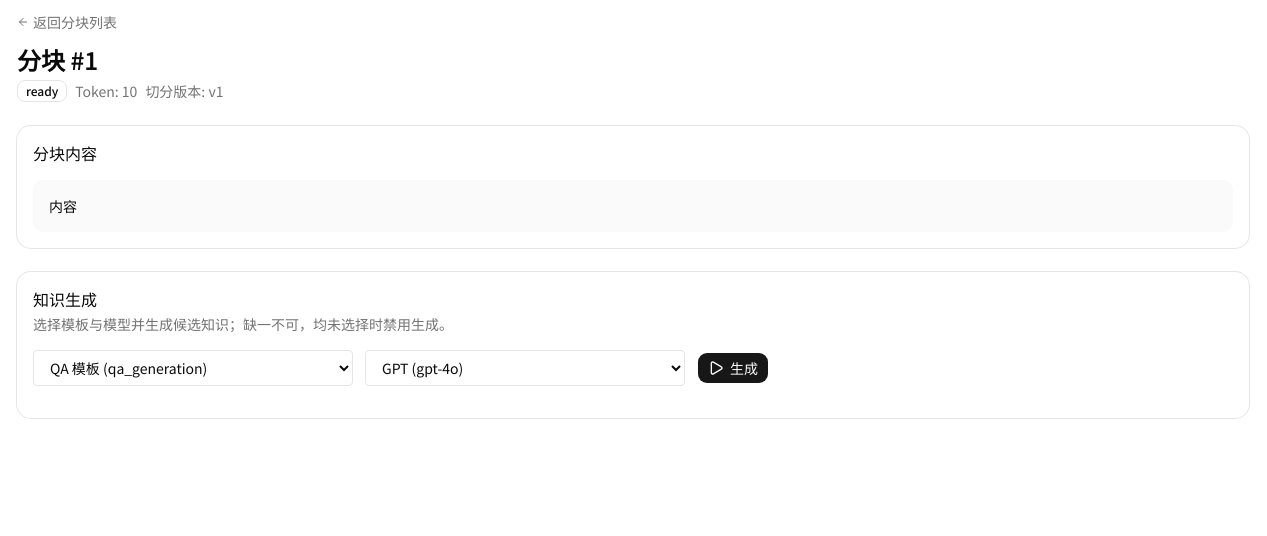
Test: 单 Chunk 生成页 › 加载模板与模型，缺一禁用生成；202 后显示 queued 而非生成完成提示
This screenshot has width=1267, height=536.
Expected: the heading "分块 #1" is shown, left=17, top=42, right=98, bottom=77
Expected: the dropdown named "模板" is shown, left=33, top=350, right=353, bottom=386
Click the button "生成": [733, 368] box left=697, top=352, right=769, bottom=384
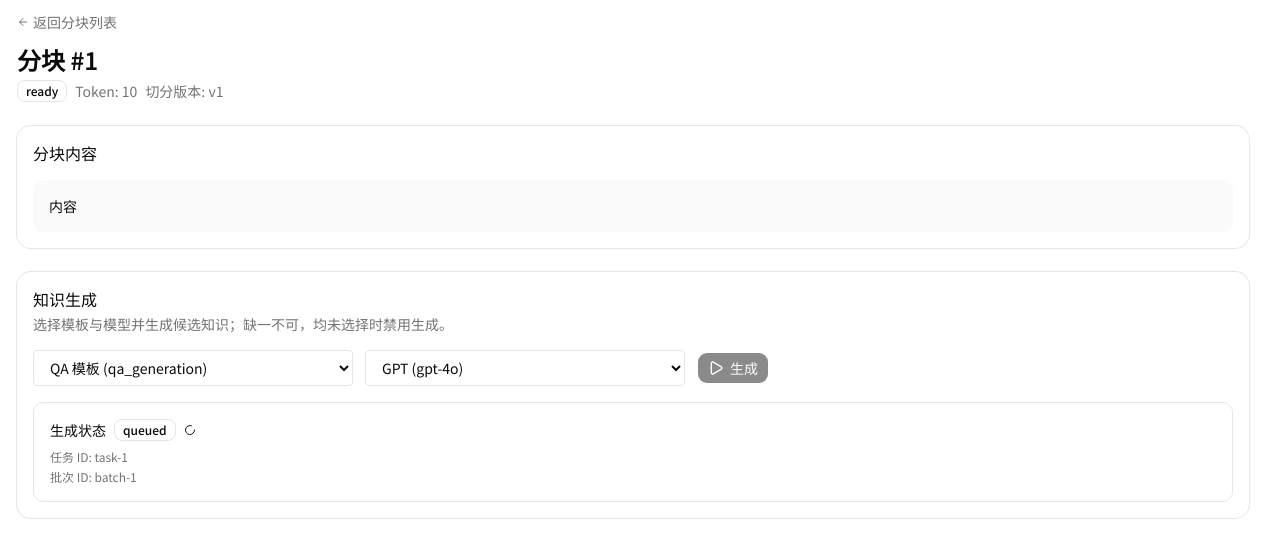
Result: the text "生成状态" is shown at left=50, top=420, right=106, bottom=440
Result: the text "queued" is shown at left=114, top=419, right=176, bottom=441
